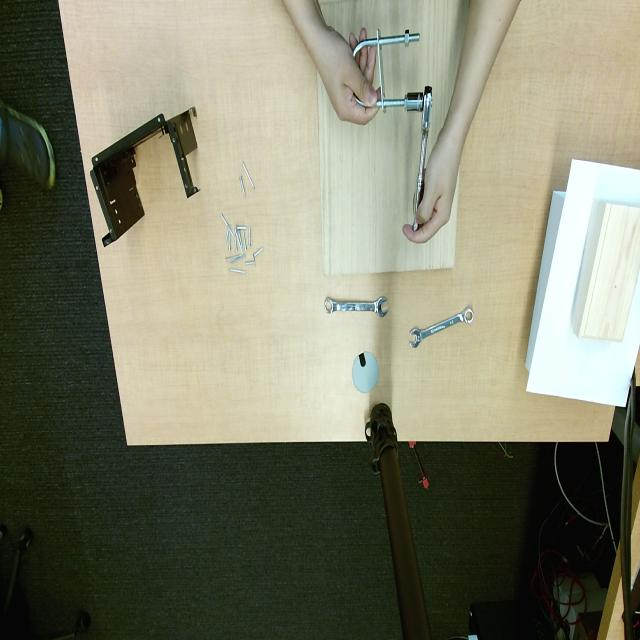wrench: (412, 87, 432, 231), (410, 307, 474, 348), (325, 296, 388, 318)
